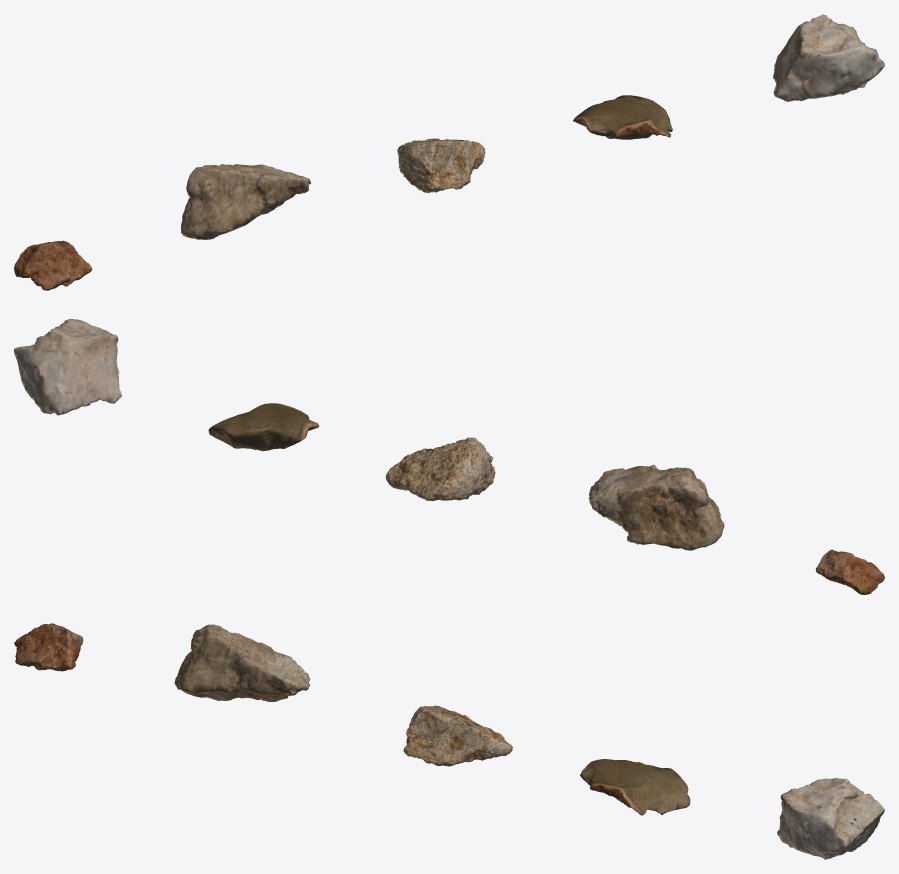
File: desert_hero_stones.glb
The picture shows the model from 3 angles, top to bottom: view 1: azimuth 30°, elevation 25°; view 2: azimuth 150°, elevation 25°; view 3: azimuth 330°, elevation 25°; orthographic projection.
Visible parts, largest first — view 1: namaqualand_stones_01_e, namaqualand_stones_01_b, namaqualand_stones_01_c, namaqualand_stones_01_d, namaqualand_stones_01_a; view 2: namaqualand_stones_01_b, namaqualand_stones_01_e, namaqualand_stones_01_c, namaqualand_stones_01_d, namaqualand_stones_01_a; view 3: namaqualand_stones_01_b, namaqualand_stones_01_e, namaqualand_stones_01_c, namaqualand_stones_01_d, namaqualand_stones_01_a.
Boxes of the visible parts, x1,y1,x2,y2 form: namaqualand_stones_01_e: (773,14,884,101); namaqualand_stones_01_b: (181,164,310,239); namaqualand_stones_01_c: (397,138,485,192); namaqualand_stones_01_d: (573,95,672,139); namaqualand_stones_01_a: (14,240,92,290); namaqualand_stones_01_b: (588,464,724,550); namaqualand_stones_01_e: (14,319,121,415); namaqualand_stones_01_c: (385,437,495,501); namaqualand_stones_01_d: (208,403,318,451); namaqualand_stones_01_a: (815,549,884,594); namaqualand_stones_01_b: (174,624,310,701); namaqualand_stones_01_e: (777,777,884,859); namaqualand_stones_01_c: (403,705,512,766); namaqualand_stones_01_d: (580,759,690,815); namaqualand_stones_01_a: (14,623,83,671).
Size of the model in its own units: 1.02 by 0.084 by 0.112.
Materials: 1 (1 with a texture image).
